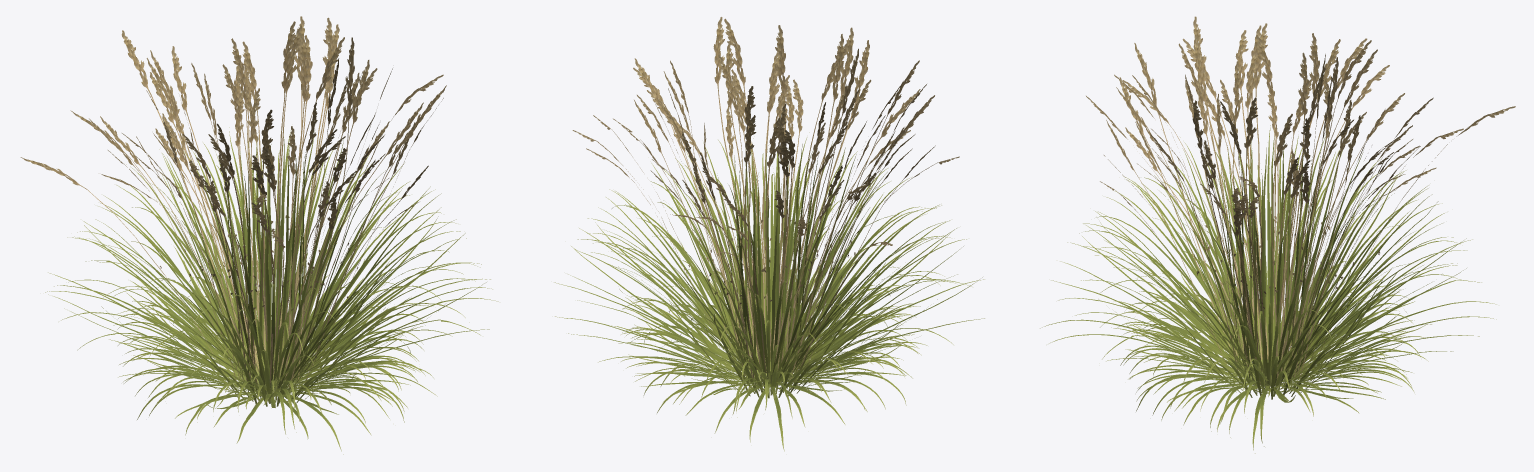
The model's file is grass.glb.
3 renders of one model, left to right at view 1: azimuth 30°, elevation 25°; view 2: azimuth 150°, elevation 25°; view 3: azimuth 270°, elevation 25°, orthographic. The views are drawn at different scales.
Parts seen in each view (by area): view 1: LEAF_green103_1, BARG_103_0; view 2: LEAF_green103_1, BARG_103_0; view 3: LEAF_green103_1, BARG_103_0.
Part boxes in pixels (x1=…): LEAF_green103_1: x1=45, y1=127, x2=498, y2=454; BARG_103_0: x1=20, y1=16, x2=446, y2=387; LEAF_green103_1: x1=554, y1=132, x2=984, y2=451; BARG_103_0: x1=572, y1=17, x2=959, y2=381; LEAF_green103_1: x1=1040, y1=125, x2=1496, y2=453; BARG_103_0: x1=1086, y1=16, x2=1515, y2=384.
Size of the model in its own units: 0.3163 by 0.2602 by 0.3364.
2 materials, 2 textured.
